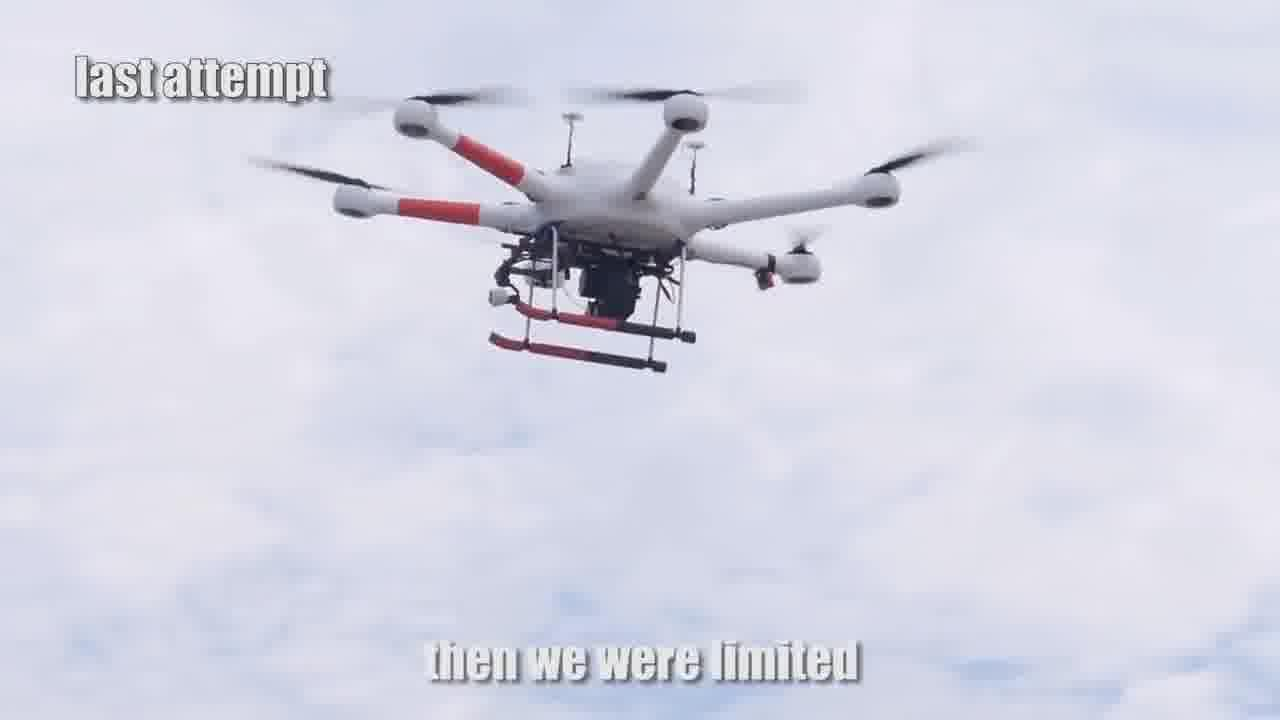drone: (300, 71, 953, 399)
